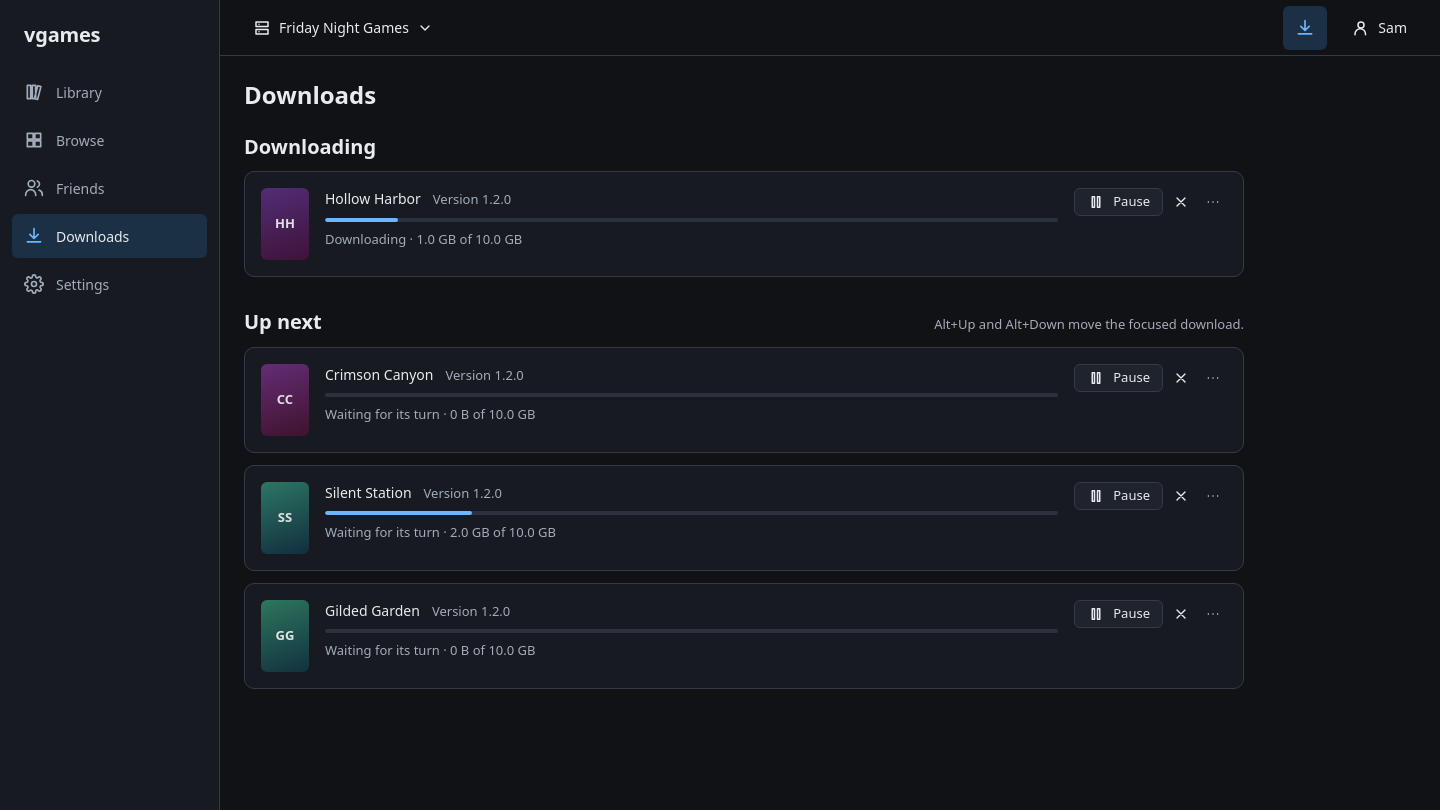
Test case: downloads › cancel › keeps the downloaded files by default
Click the button named "Cancel Silent Station" at (1181, 496), box [1167,482,1195,510]
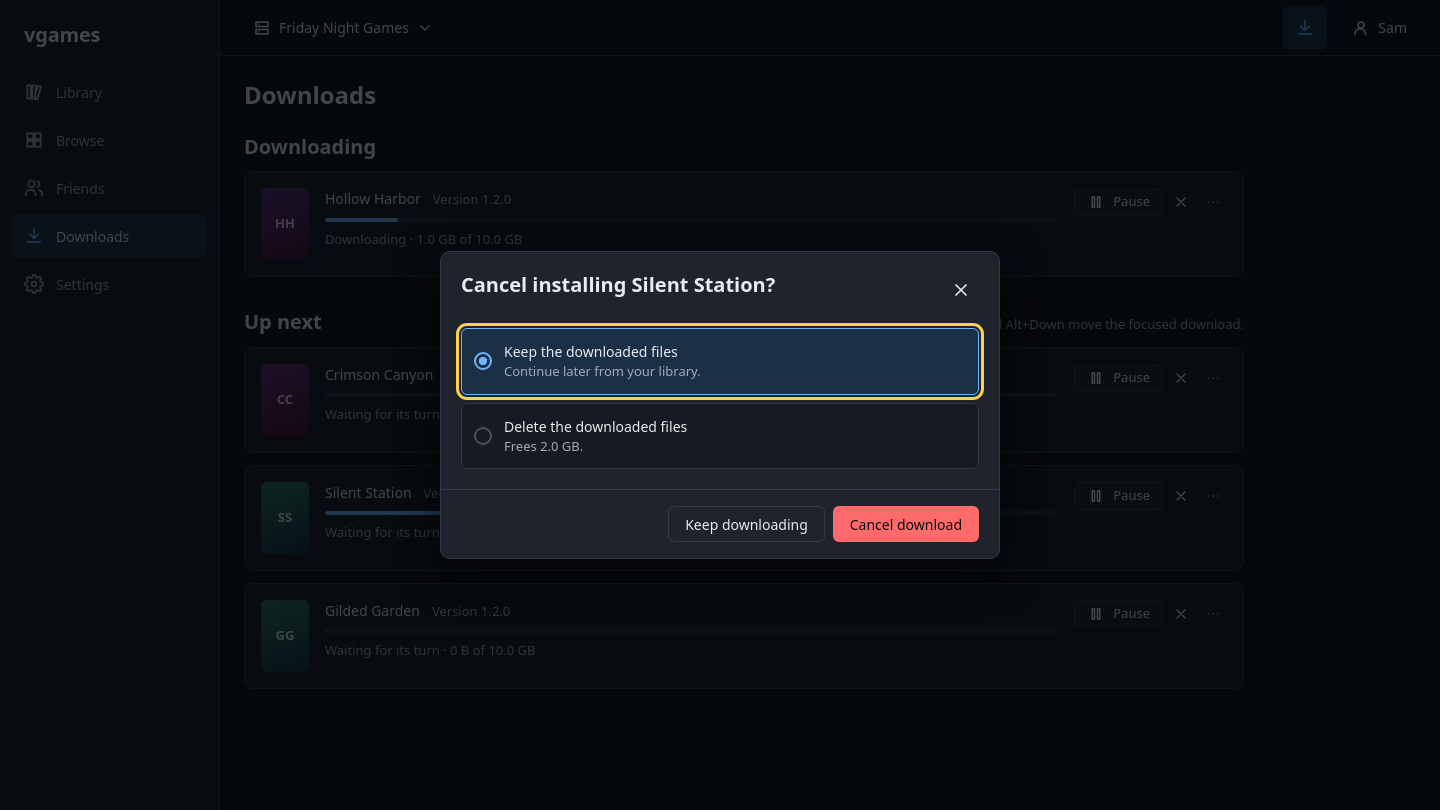
Result: the radio button labelled "Keep the downloaded files Continue later from your library." is checked at [461,328,979,394]
Result: the radio button labelled "Delete the downloaded files Frees 2.0 GB." is shown at [461,402,979,469]
Click the button "Cancel download" at (906, 524), box [833,506,979,542]
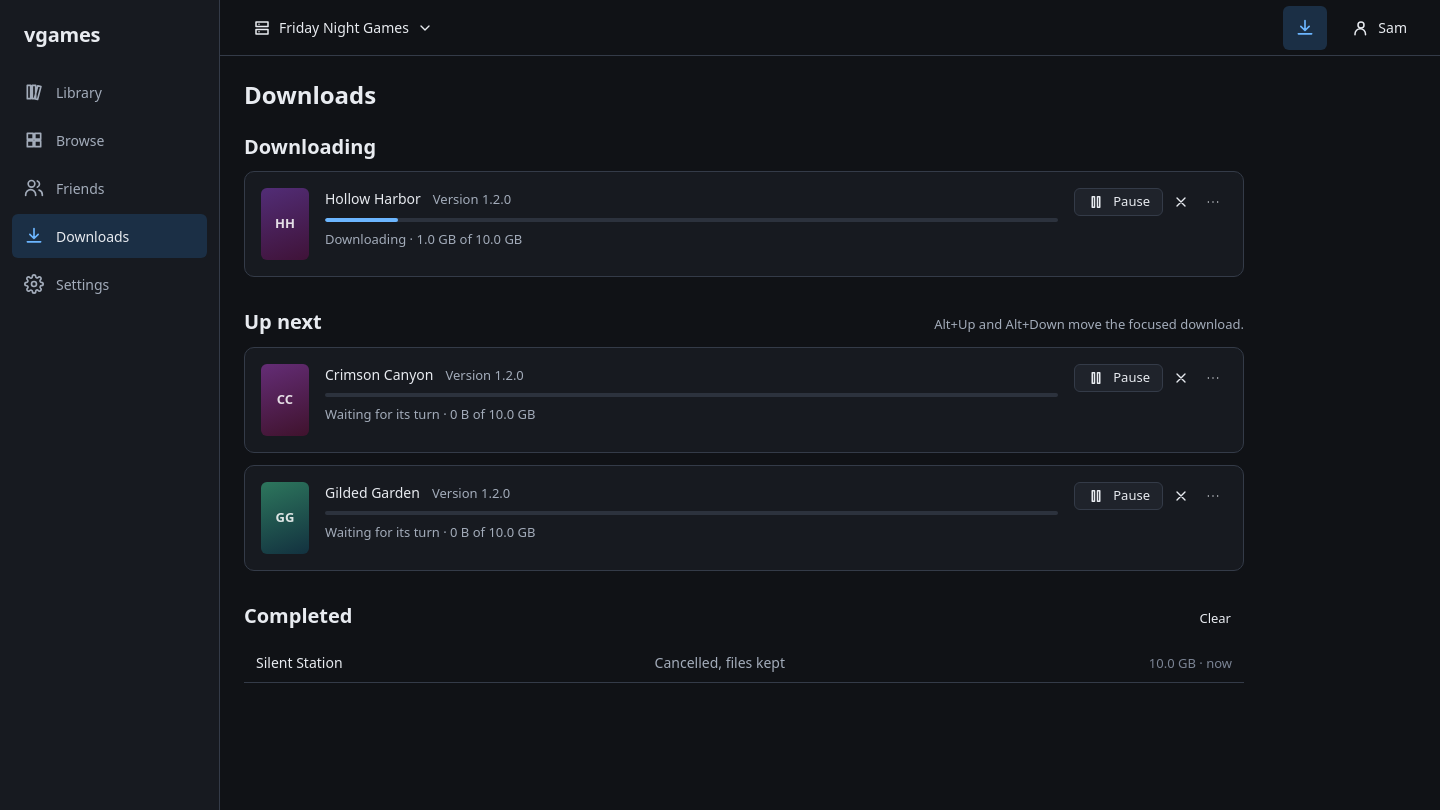
Result: the text "Cancelled, files kept" is shown at [655,653,785,672]
Result: the dialog is gone
